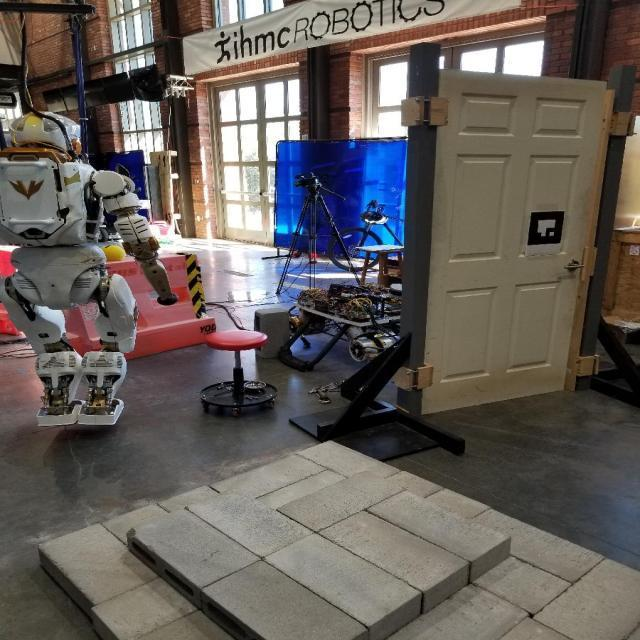door: (417, 65, 609, 417), (563, 258, 587, 274)
